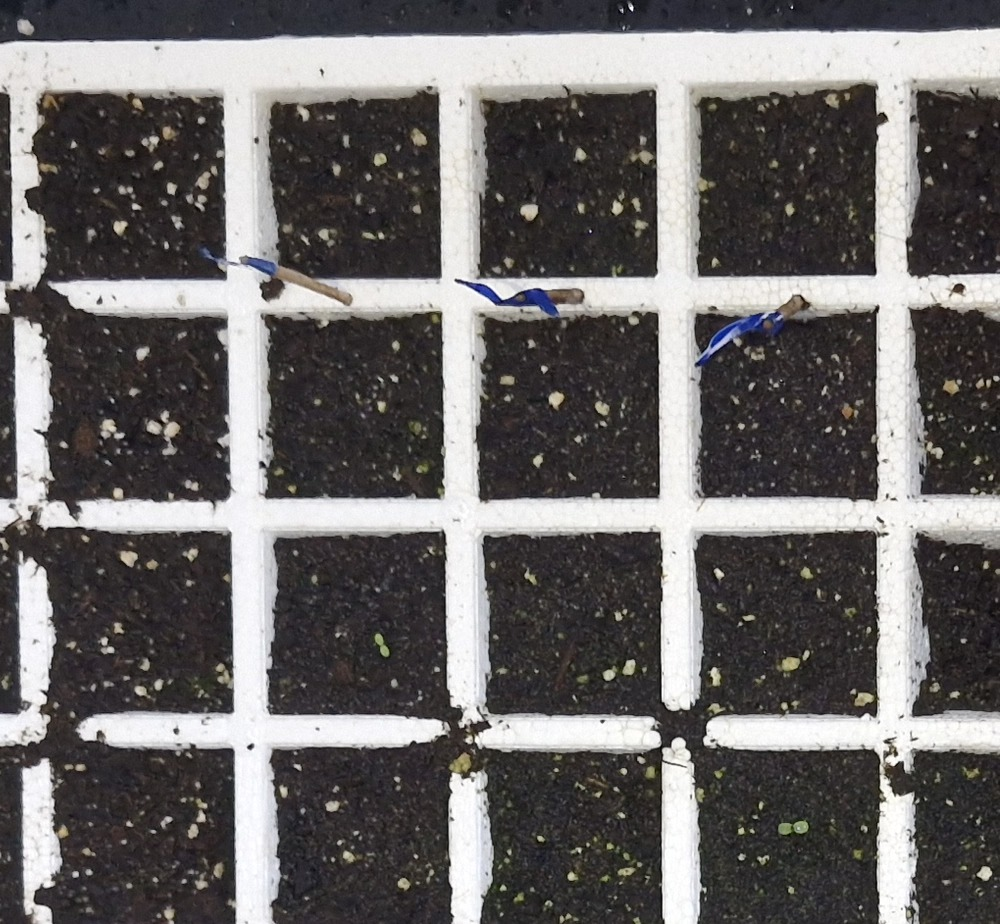Folha: (793, 822, 809, 834), (779, 823, 792, 834), (380, 645, 390, 657), (375, 634, 385, 646)
Germinacao: (779, 821, 809, 835), (375, 633, 391, 657)
